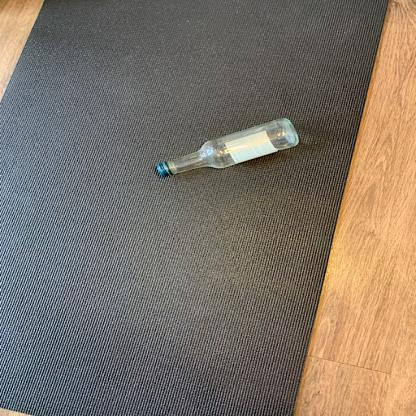trash: (153, 118, 304, 180)
